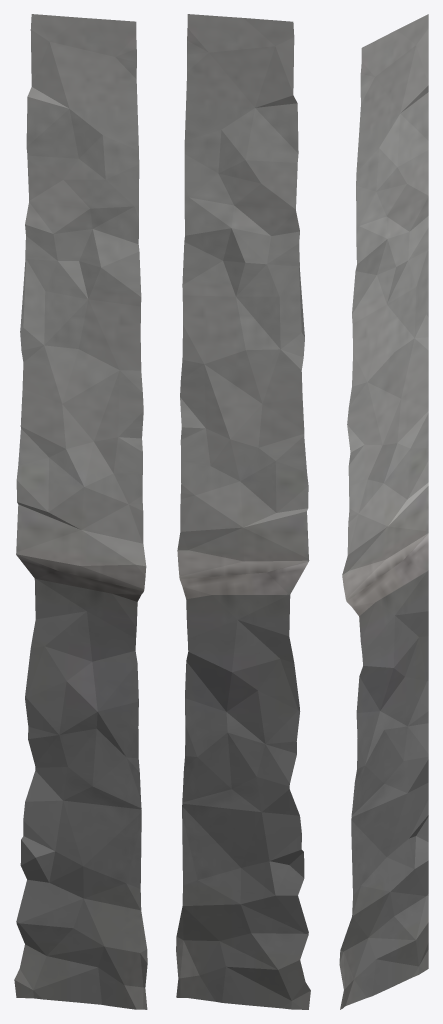
The picture shows the model from 3 angles, left to right: view 1: azimuth 30°, elevation 25°; view 2: azimuth 210°, elevation 25°; view 3: azimuth 270°, elevation 25°; orthographic projection. The views are drawn at different scales.
Bounding box in the file's own units: 0.0786 × 0.8374 × 0.0702.
Materials: 1 (1 with a texture image).
